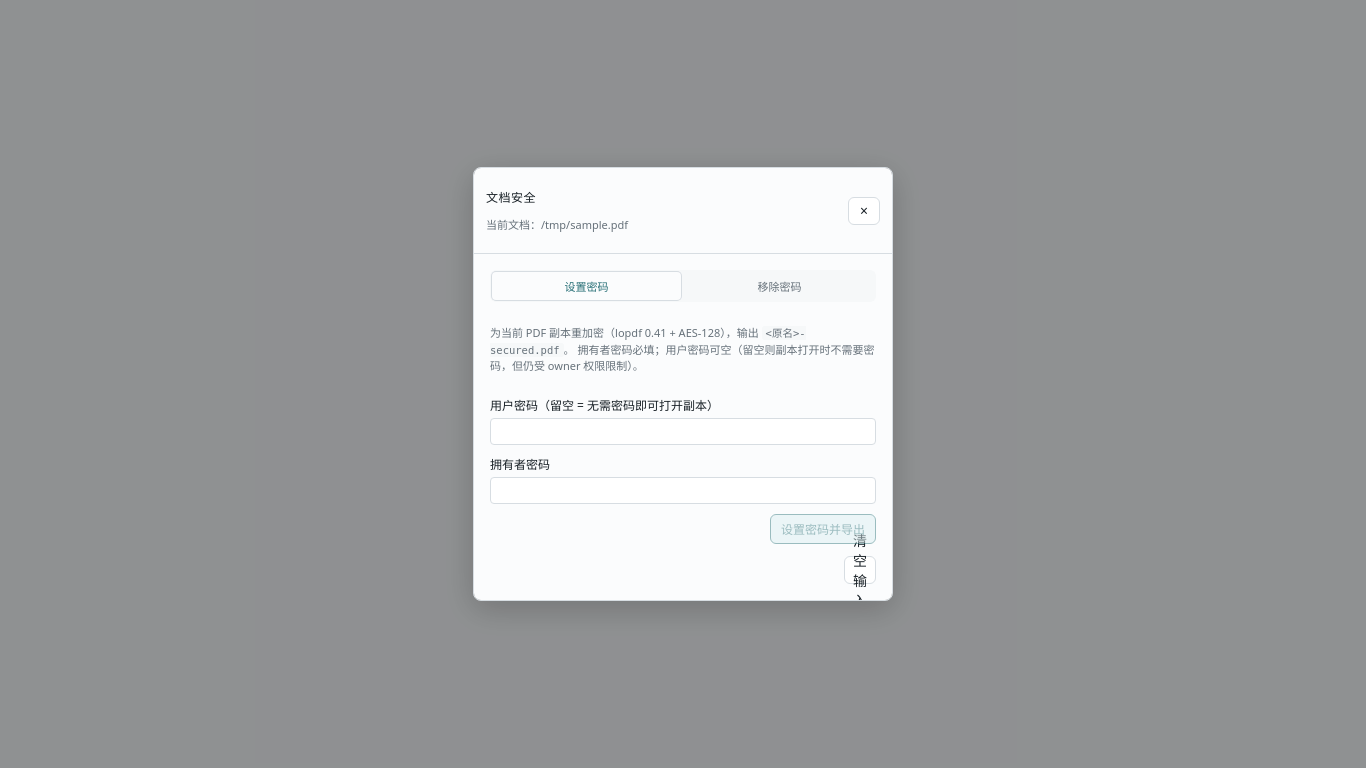
Scenario: SecurityPanel (ISS-064 阶段 1 + DEC-102 P1-4) › set 模式 → 渲染密码表单 + 按钮 enabled (ISS-064 阶段 2 激活)
Expected: the password field labelled "用户密码（留空 = 无需密码即可打开副本）" is shown, [490,418,876,445]
Expected: the button "设置密码并导出" is disabled, [770,514,876,544]
In the password field labelled "拥有者密码": (683, 490) [490,477,876,504], type "owner-pwd"
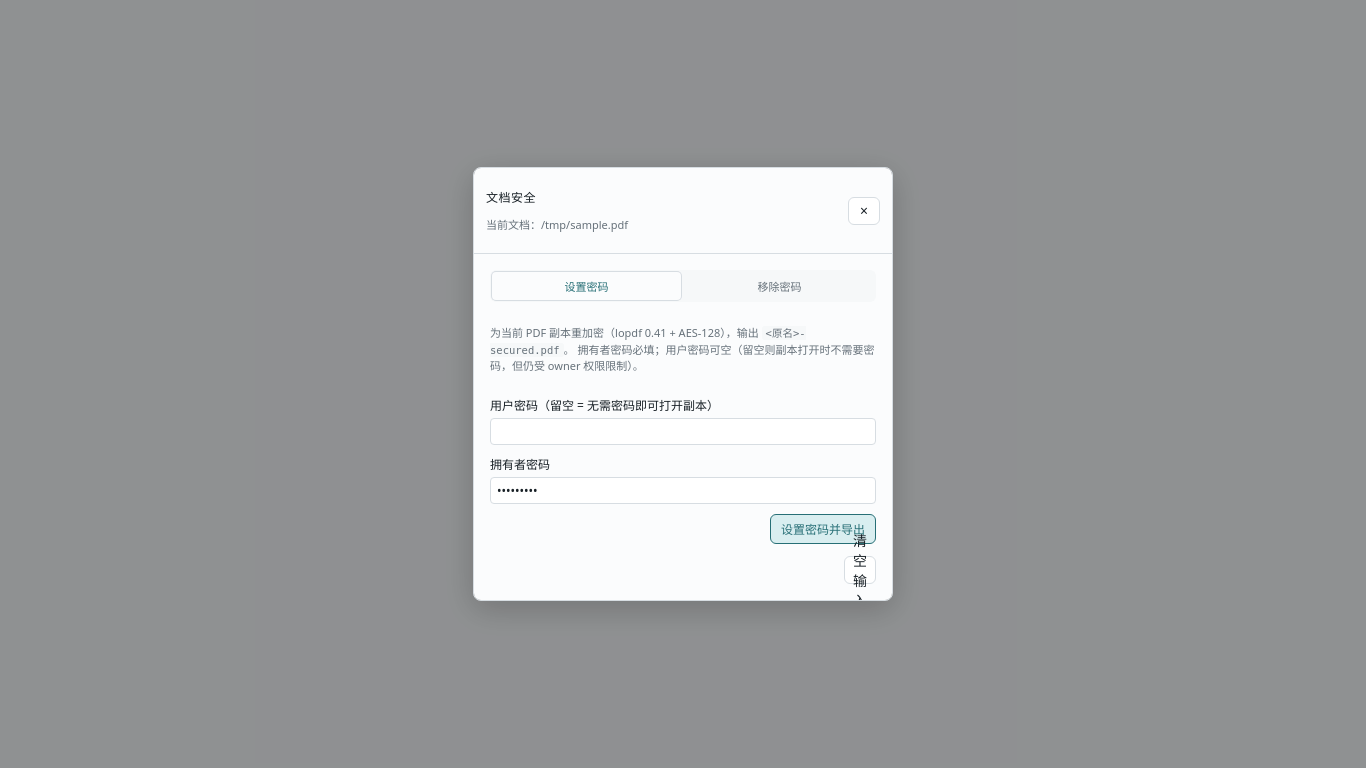
Expected: the button "设置密码并导出" is enabled, [770,514,876,544]
